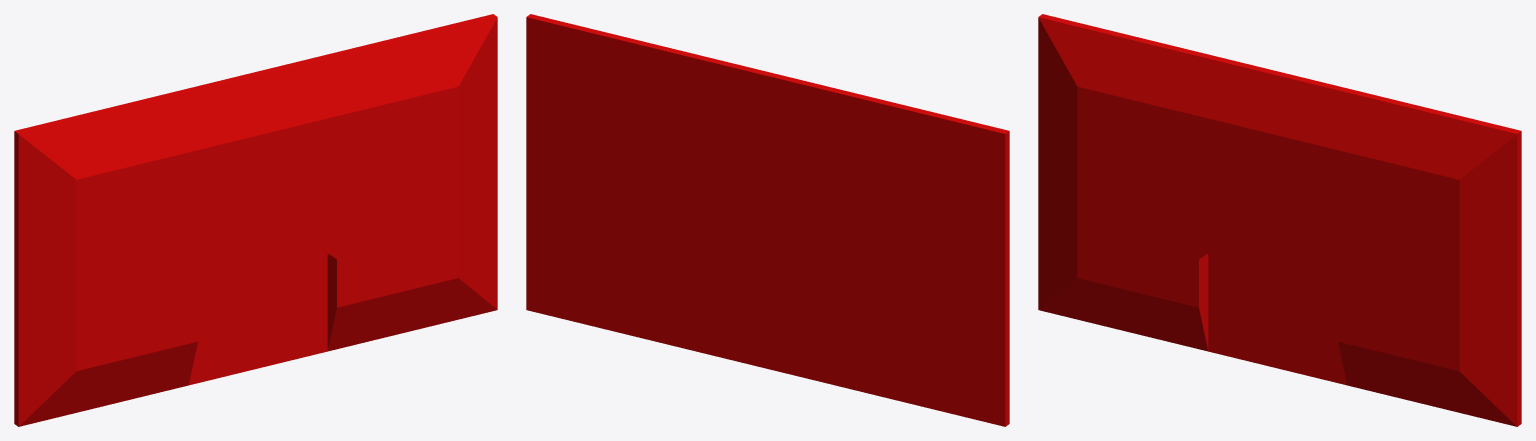
File: Monitor_Modulur.fbx
The picture shows the model from 3 angles, left to right: view 1: azimuth 30°, elevation 25°; view 2: azimuth 150°, elevation 25°; view 3: azimuth 330°, elevation 25°; orthographic projection.
Visible parts, largest first — view 1: Monitor_Modulur; view 2: Monitor_Modulur; view 3: Monitor_Modulur.
Boxes of the visible parts, <box> form: Monitor_Modulur: <box>14,14,497,426</box>; Monitor_Modulur: <box>526,14,1009,426</box>; Monitor_Modulur: <box>1038,14,1521,426</box>.
Size of the model in its own units: 122 by 71.55 by 6.06.
